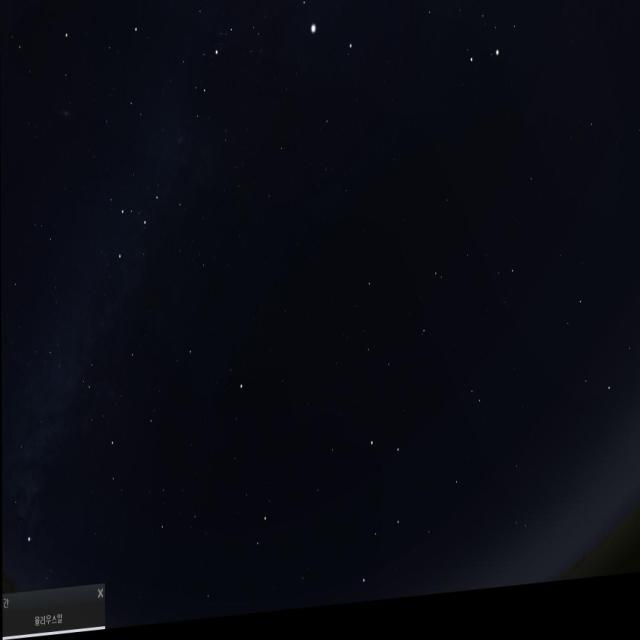ursa_major: (341, 432, 415, 611)
